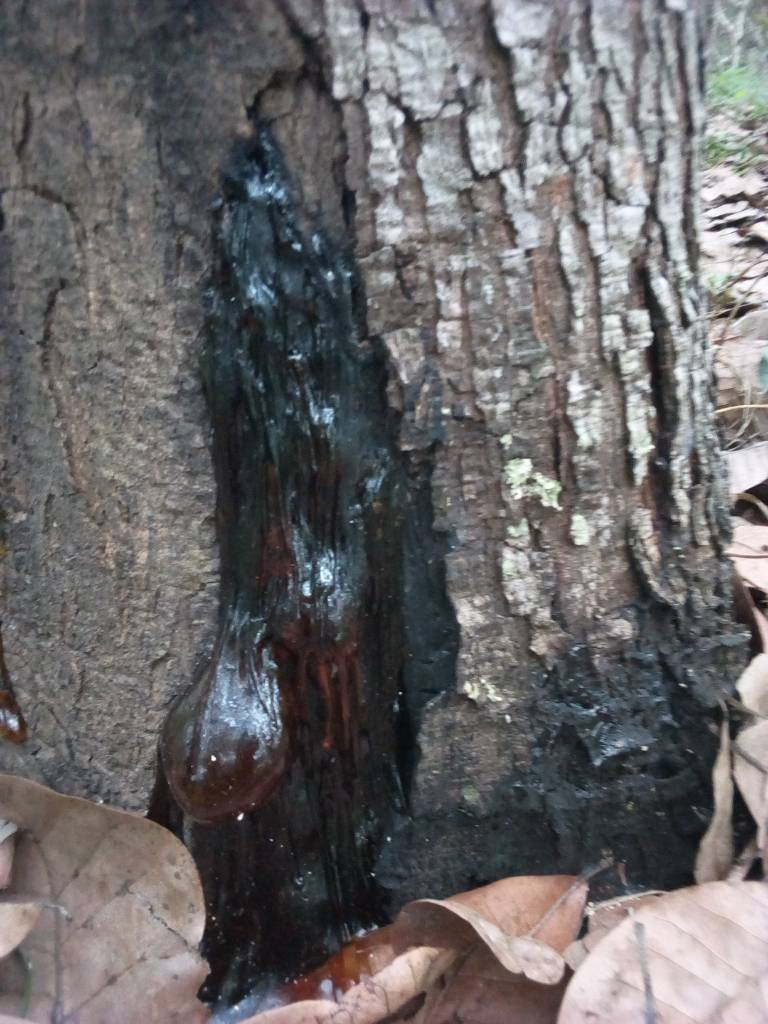Gommose: (172, 169, 425, 863)
